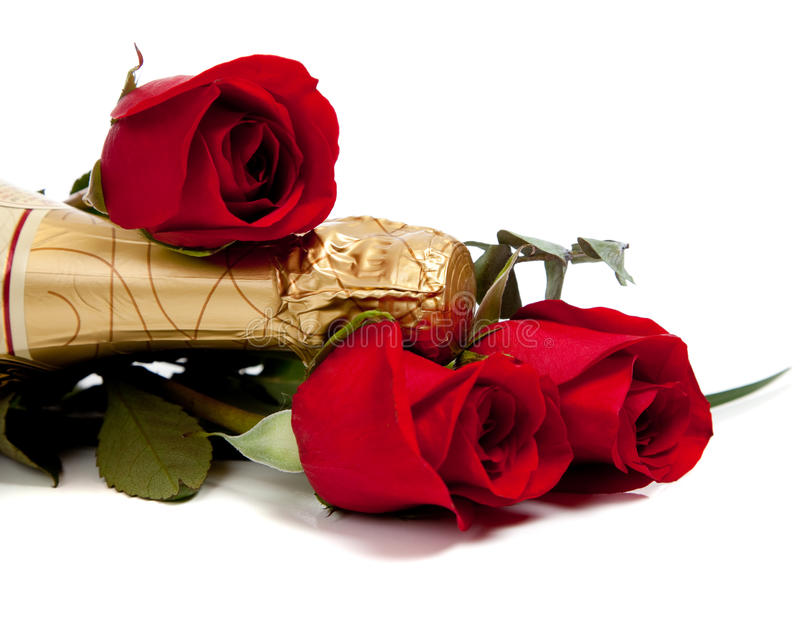RedRose: (301, 311, 580, 548), (87, 41, 377, 242), (488, 266, 728, 503)
